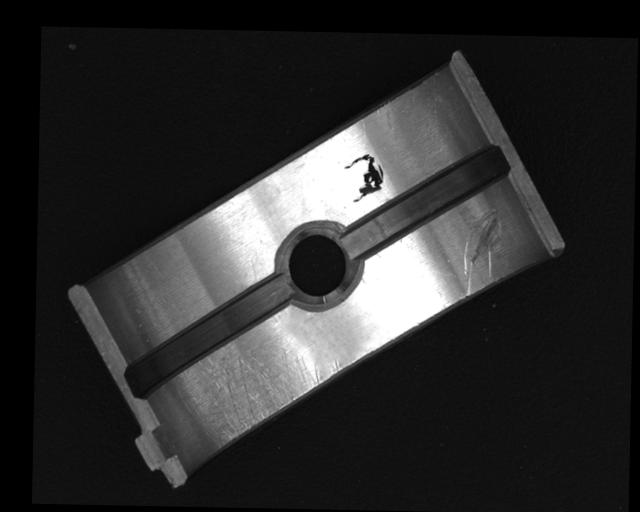blot: (342, 152, 385, 210)
gap: (124, 271, 292, 401), (341, 143, 509, 261)
hole: (274, 221, 362, 309)
nick: (463, 206, 507, 300)
scratch: (175, 341, 343, 451)
